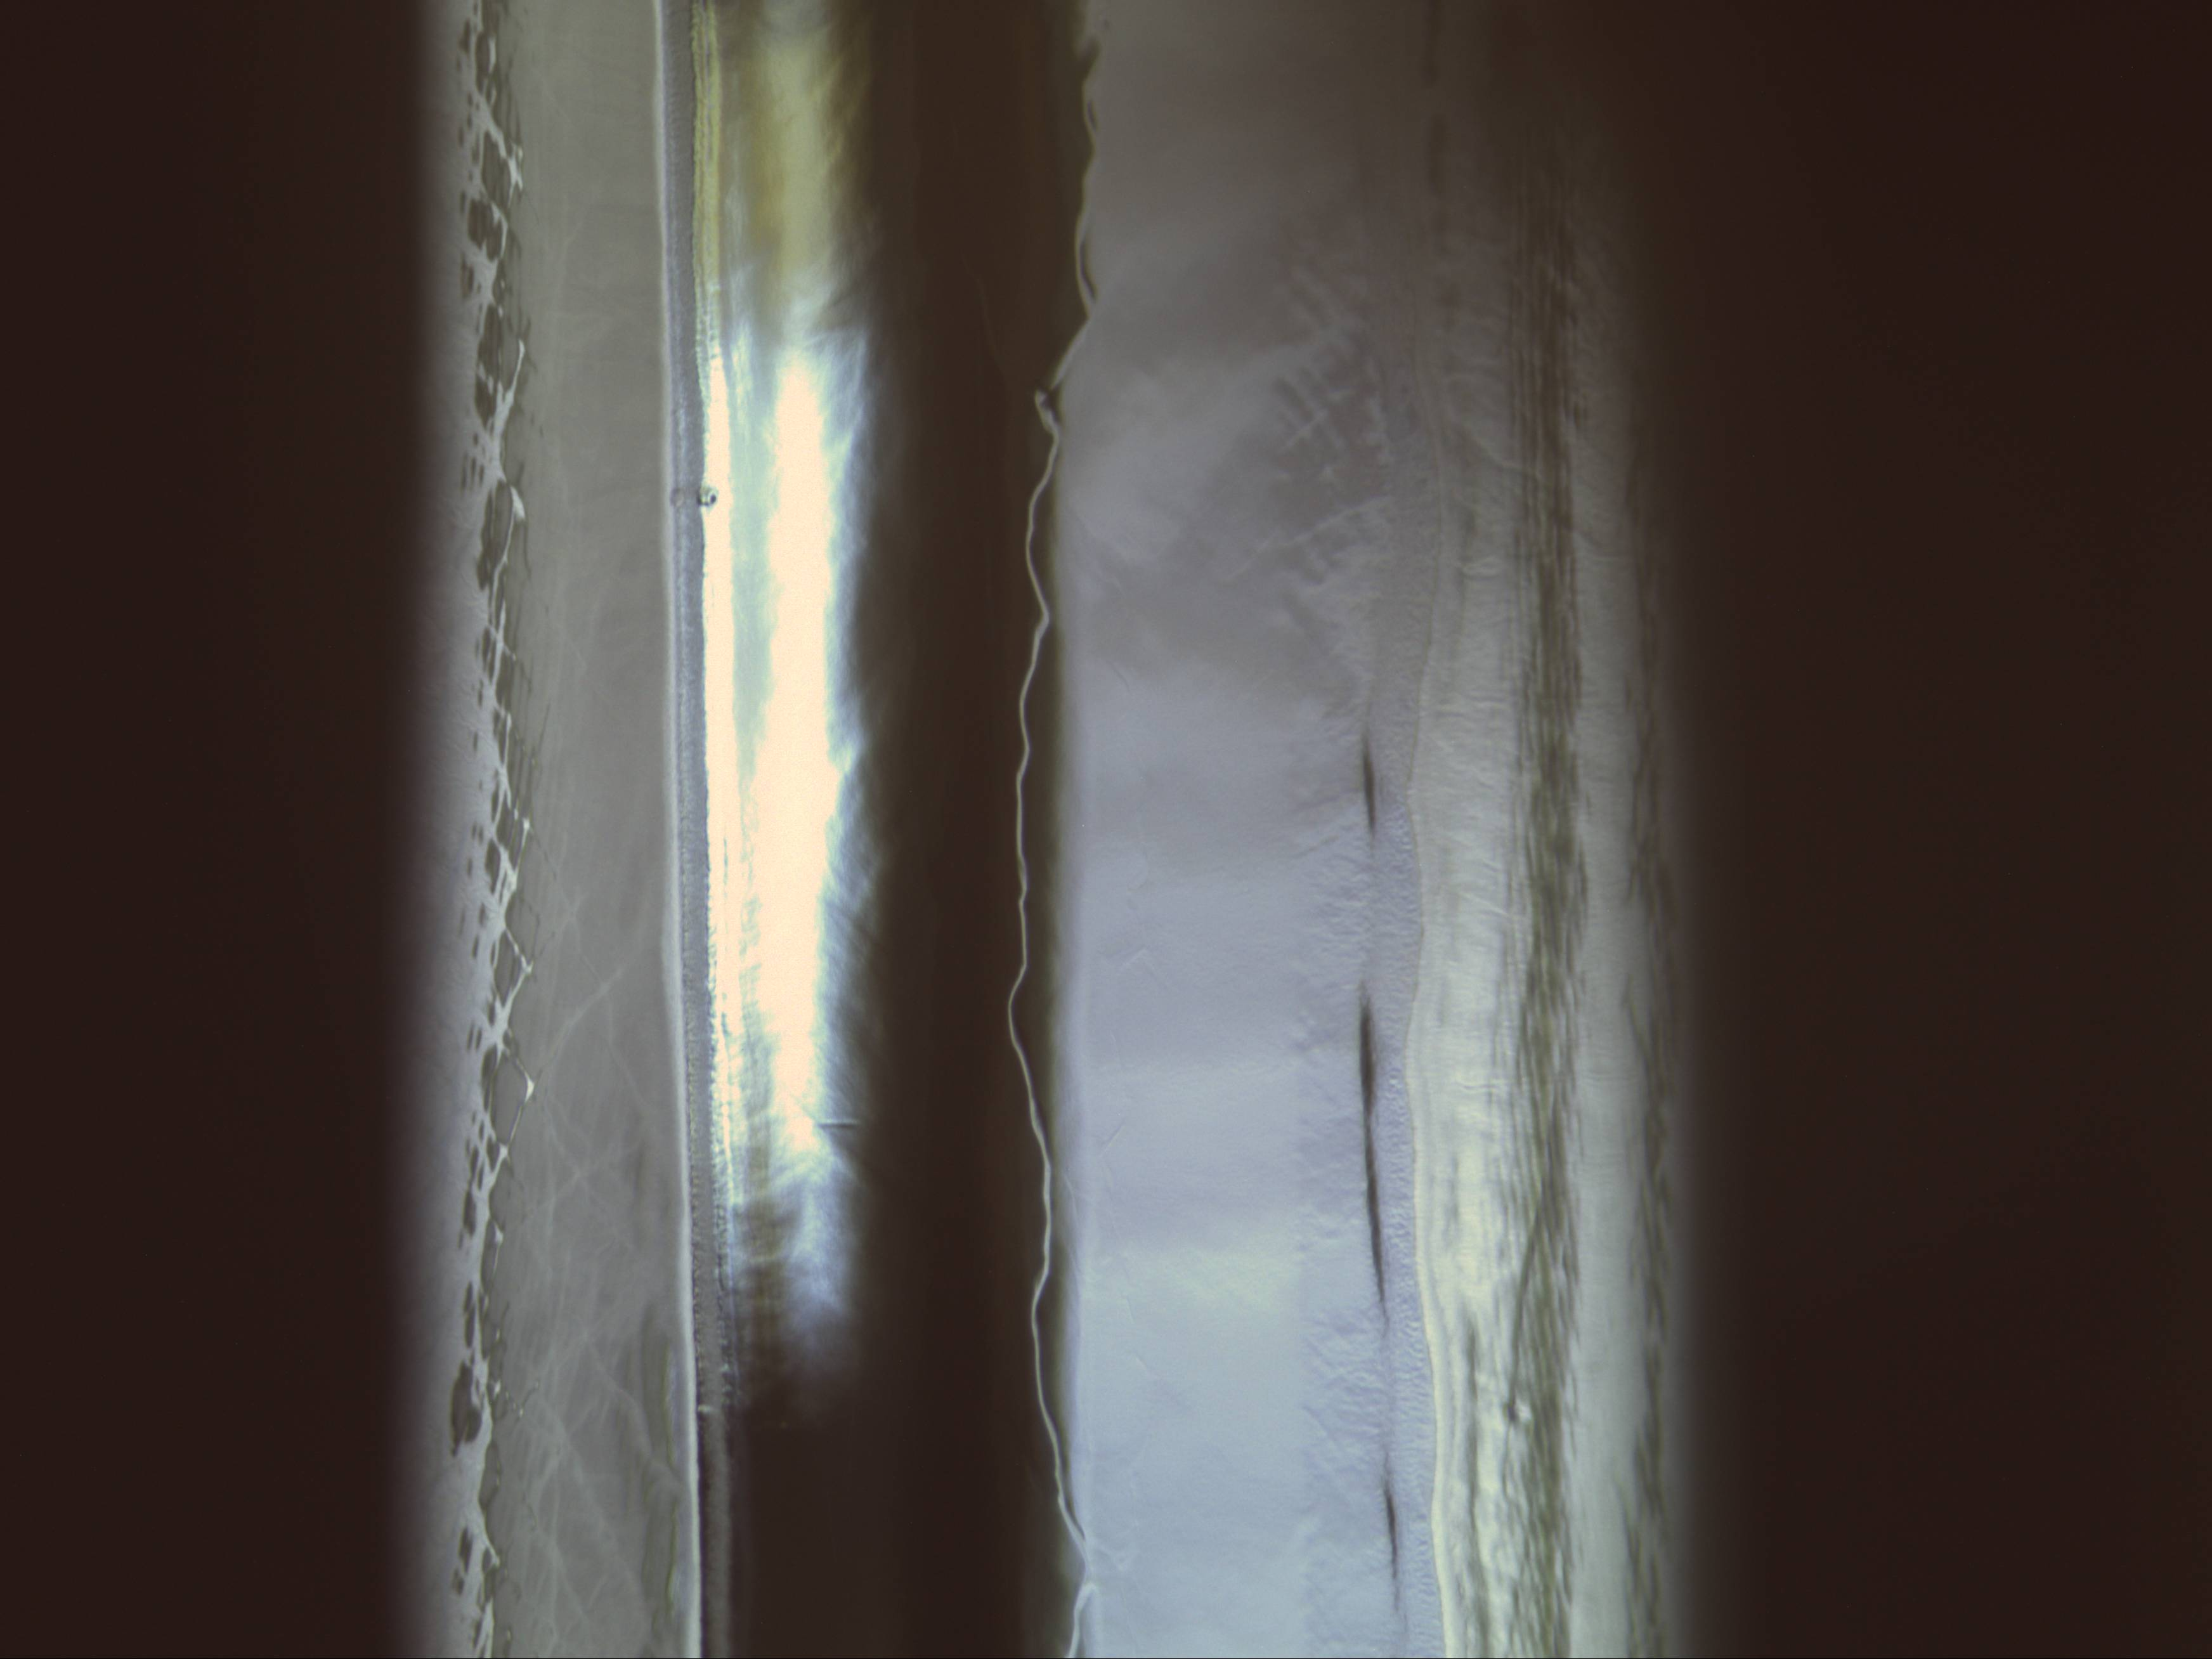defect: (681, 477, 726, 514)
